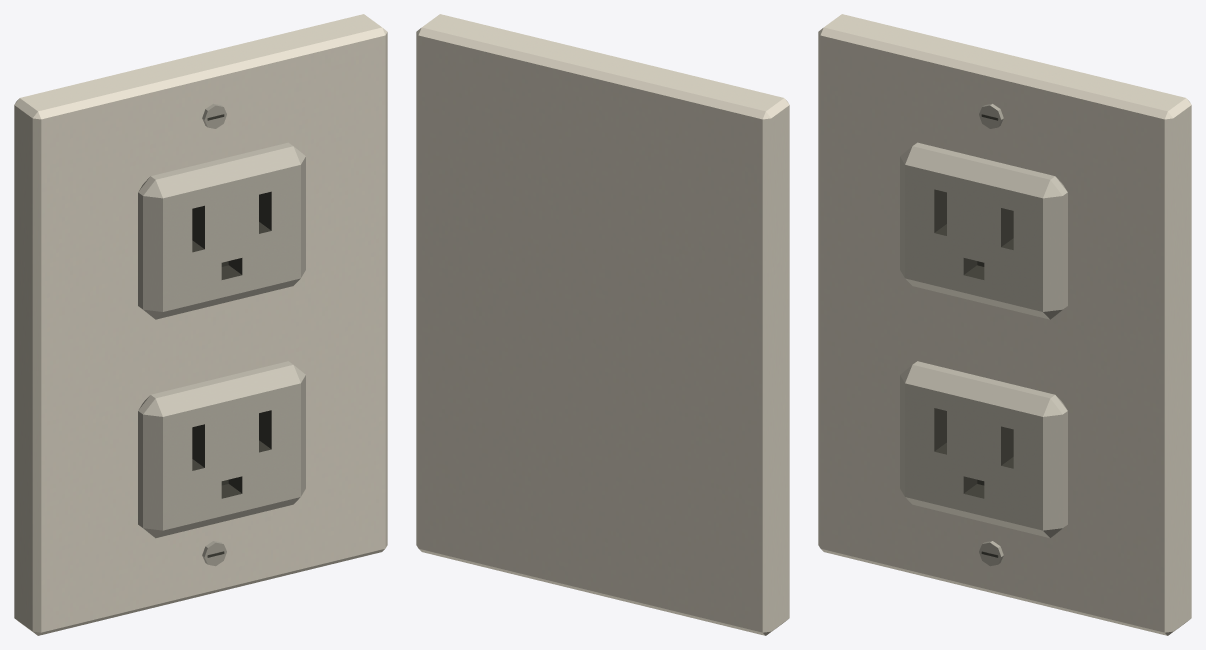
File: outlet.glb
3 views of the same model, side by side, from view 1: azimuth 30°, elevation 25°; view 2: azimuth 150°, elevation 25°; view 3: azimuth 330°, elevation 25° (orthographic).
Visible parts, largest first — view 1: home_outlet; view 2: home_outlet; view 3: home_outlet.
Part boxes in pixels (x1,y1,x2,y2): home_outlet: (14, 14, 387, 635); home_outlet: (416, 14, 789, 635); home_outlet: (818, 14, 1191, 635).
Bounding box in the file's own units: 0.085 × 0.12 × 0.018.
1 material, 1 textured.
